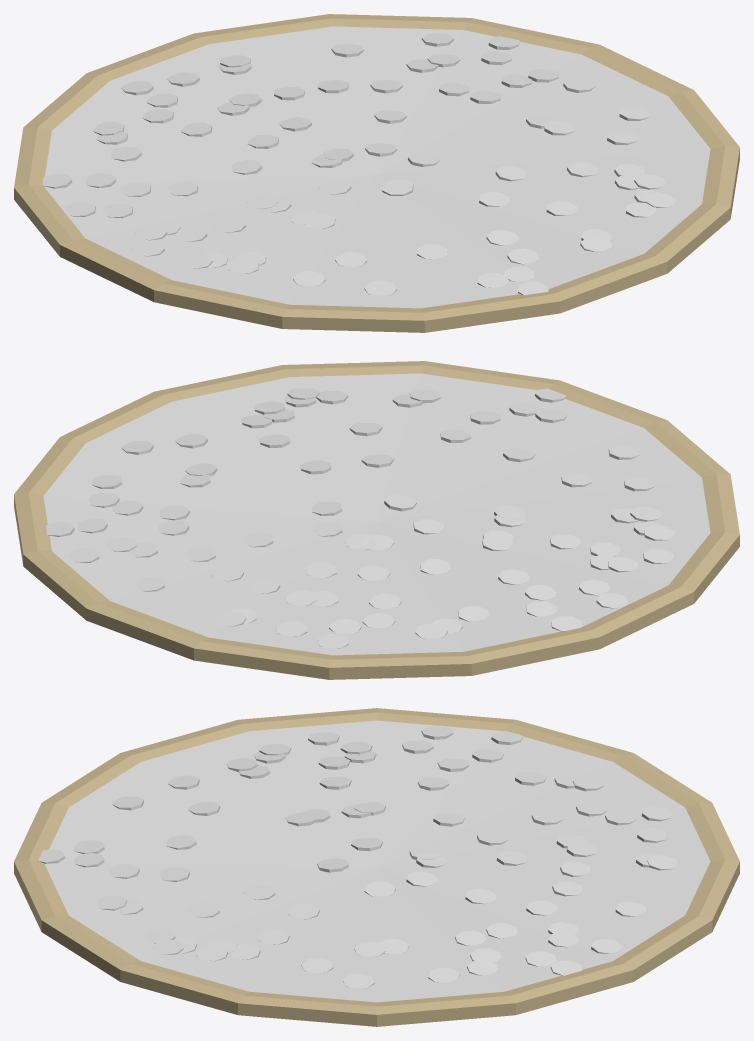
The model's file is Pizza.fbx.
The picture shows the model from 3 angles, top to bottom: view 1: azimuth 30°, elevation 25°; view 2: azimuth 150°, elevation 25°; view 3: azimuth 270°, elevation 25°; orthographic projection.
Visible parts, largest first — view 1: Cylinder.001; view 2: Cylinder.001; view 3: Cylinder.001.
Boxes of the visible parts, box(x1,y1,x2,y2) form: Cylinder.001: box(14, 14, 739, 332); Cylinder.001: box(14, 361, 739, 679); Cylinder.001: box(14, 708, 739, 1026).
Size of the model in its own units: 200 by 4.48 by 200.
